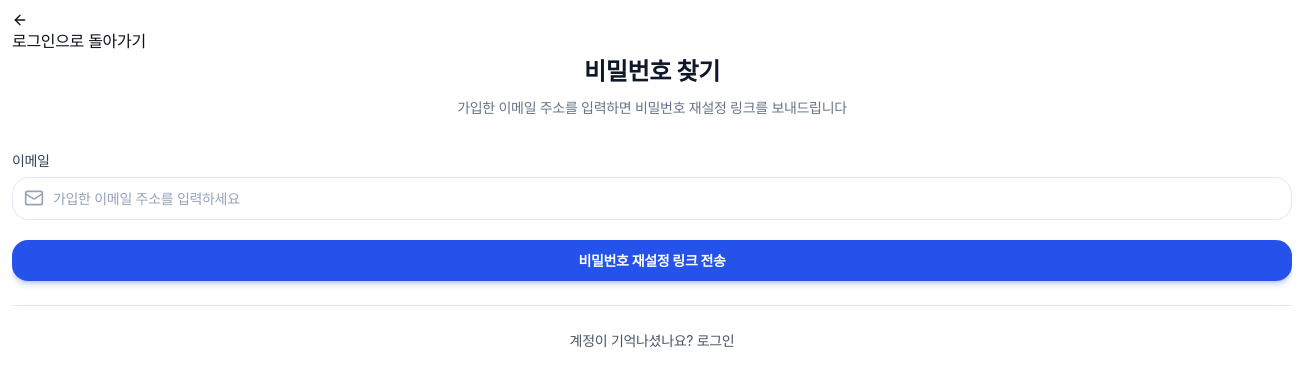
Test: ForgotPasswordPage › 비밀번호 재설정 요청 성공 › 이메일 전송 성공 후 성공 메시지를 표시한다
Type "test@example.com" into the field labelled "이메일" at x=652, y=198, box [12, 177, 1292, 220]
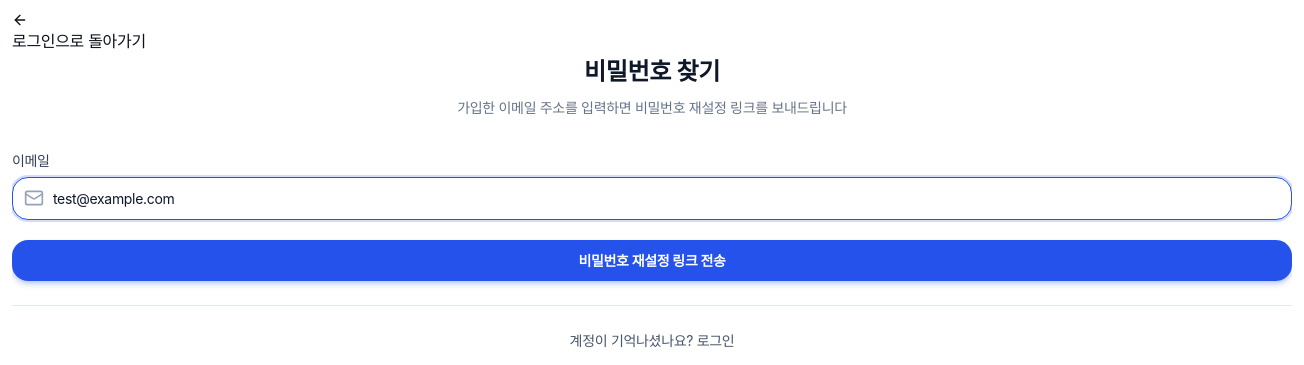
Click the button "비밀번호 재설정 링크 전송" at x=652, y=260, box [12, 240, 1292, 281]
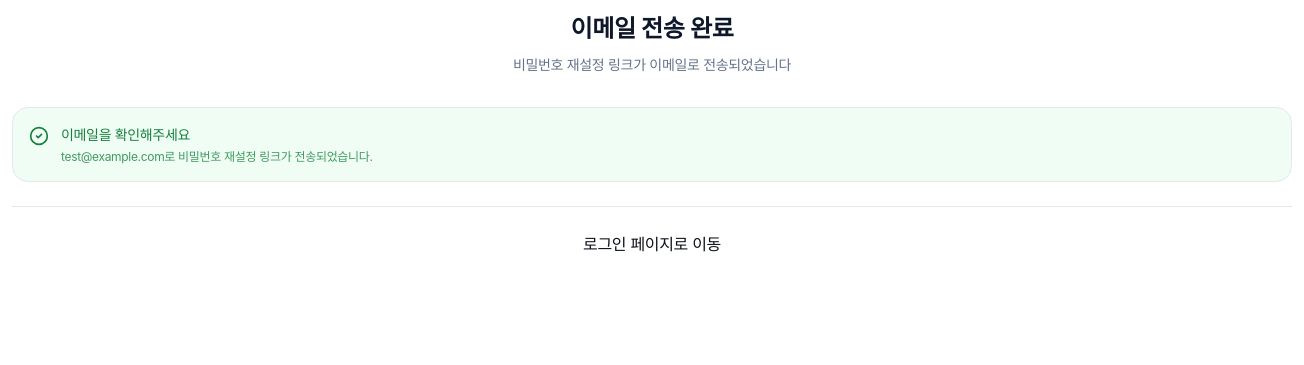
Expected: the heading "이메일 전송 완료" is shown, [570, 14, 734, 43]
Expected: the text "비밀번호 재설정 링크가 이메일로 전송되었습니다" is shown, [513, 56, 791, 73]
